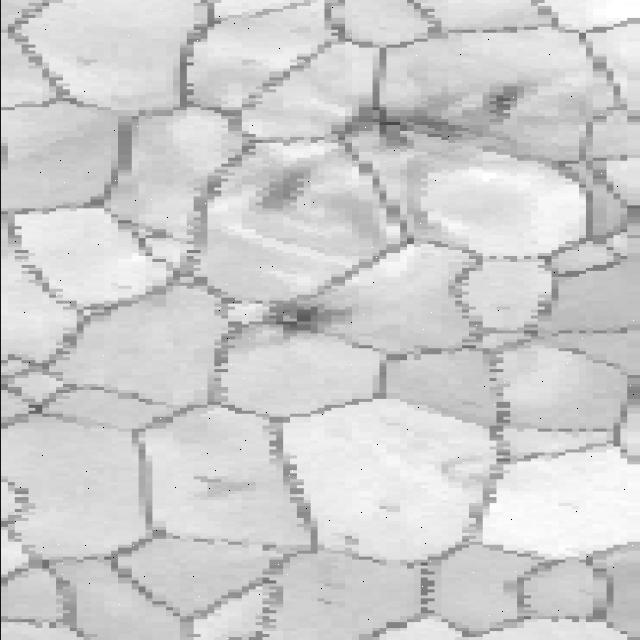good_void: (321, 82, 530, 166), (235, 292, 367, 339), (255, 163, 308, 208), (192, 473, 262, 499), (371, 502, 399, 517), (343, 533, 362, 545)
